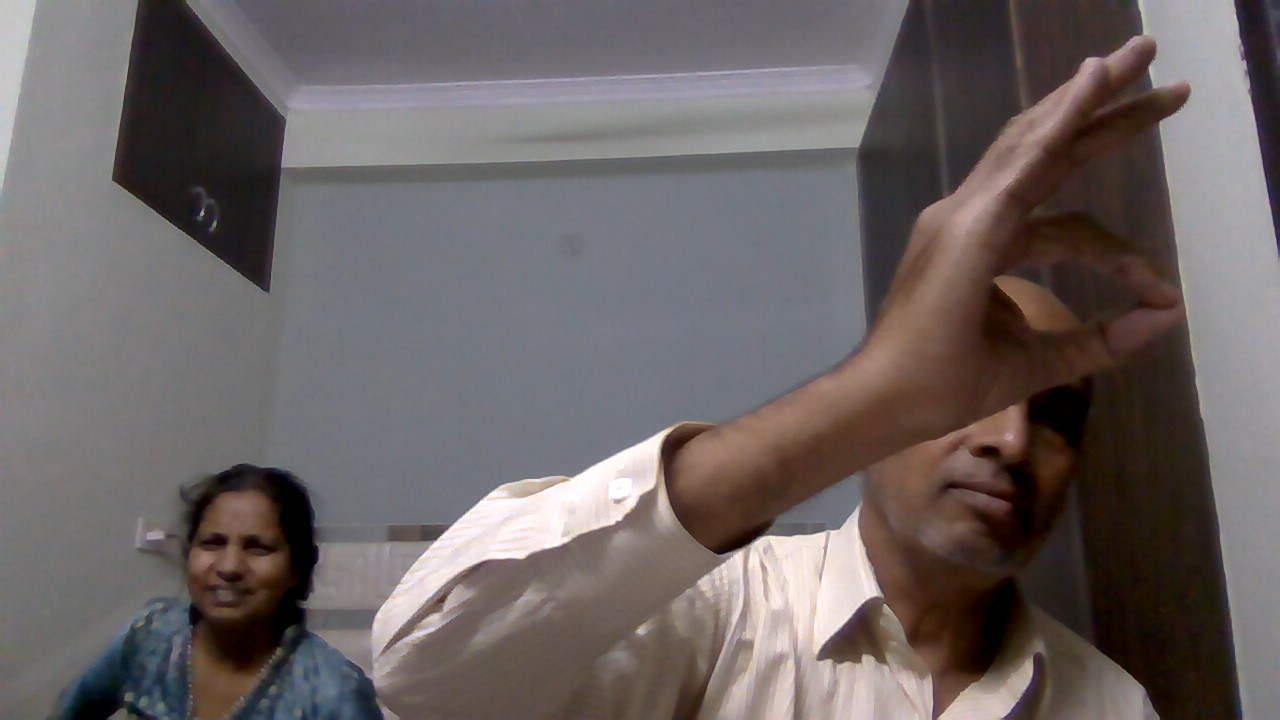Copy: (857, 23, 1215, 421)
